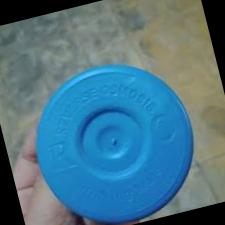Plastik: (34, 62, 194, 225)
